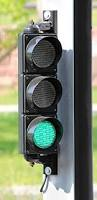green: (15, 27, 69, 164), (29, 37, 59, 149)
